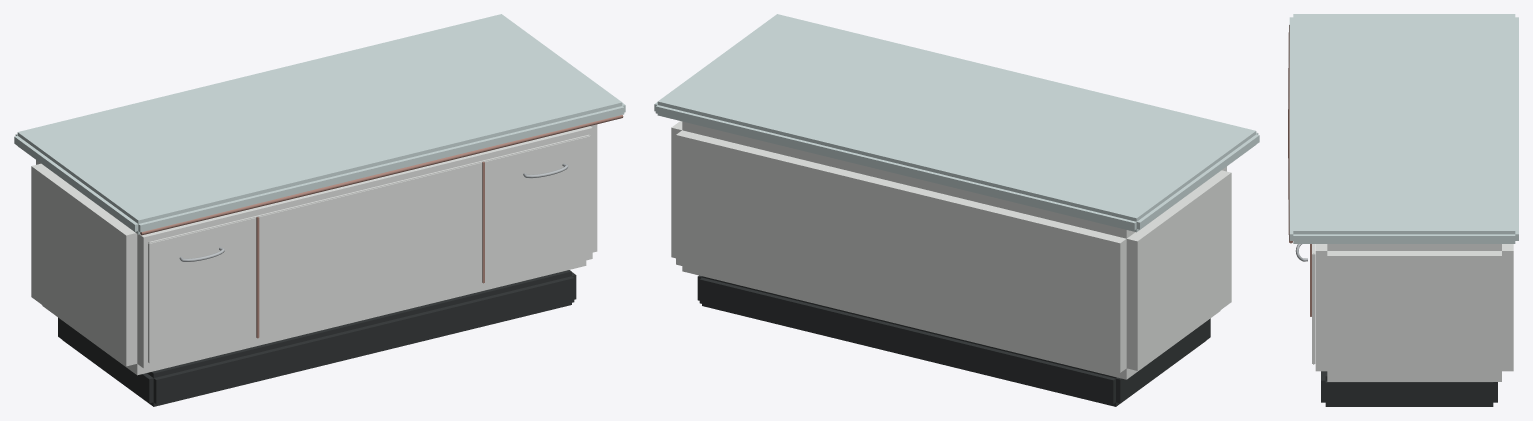
File: fixture_beauty_counter.glb
3 renders of one model, left to right at view 1: azimuth 30°, elevation 25°; view 2: azimuth 150°, elevation 25°; view 3: azimuth 270°, elevation 25°, orthographic. The views are drawn at different scales.
Visible parts, largest first — view 1: fixture_beauty_counter_FY21_porcelain_joinery, fixture_beauty_counter_FY21_frosted_glass_shelf, fixture_beauty_counter_Anodised_graphite, fixture_beauty_counter_FY21_beauty_brushed_rose; view 2: fixture_beauty_counter_FY21_porcelain_joinery, fixture_beauty_counter_FY21_frosted_glass_shelf, fixture_beauty_counter_Anodised_graphite; view 3: fixture_beauty_counter_FY21_frosted_glass_shelf, fixture_beauty_counter_FY21_porcelain_joinery, fixture_beauty_counter_Anodised_graphite, fixture_beauty_counter_FY21_beauty_brushed_rose.
Boxes of the visible parts, x1,y1,x2,y2 form: fixture_beauty_counter_FY21_porcelain_joinery: [31, 124, 597, 375]; fixture_beauty_counter_FY21_frosted_glass_shelf: [14, 14, 625, 234]; fixture_beauty_counter_Anodised_graphite: [58, 270, 576, 406]; fixture_beauty_counter_FY21_beauty_brushed_rose: [140, 115, 623, 338]; fixture_beauty_counter_FY21_porcelain_joinery: [671, 121, 1231, 379]; fixture_beauty_counter_FY21_frosted_glass_shelf: [654, 14, 1259, 232]; fixture_beauty_counter_Anodised_graphite: [697, 275, 1210, 406]; fixture_beauty_counter_FY21_frosted_glass_shelf: [1289, 14, 1518, 243]; fixture_beauty_counter_FY21_porcelain_joinery: [1312, 244, 1513, 381]; fixture_beauty_counter_Anodised_graphite: [1321, 371, 1497, 406]; fixture_beauty_counter_FY21_beauty_brushed_rose: [1288, 25, 1311, 316].
Size of the model in its own units: 2 by 0.8075 by 0.886.
